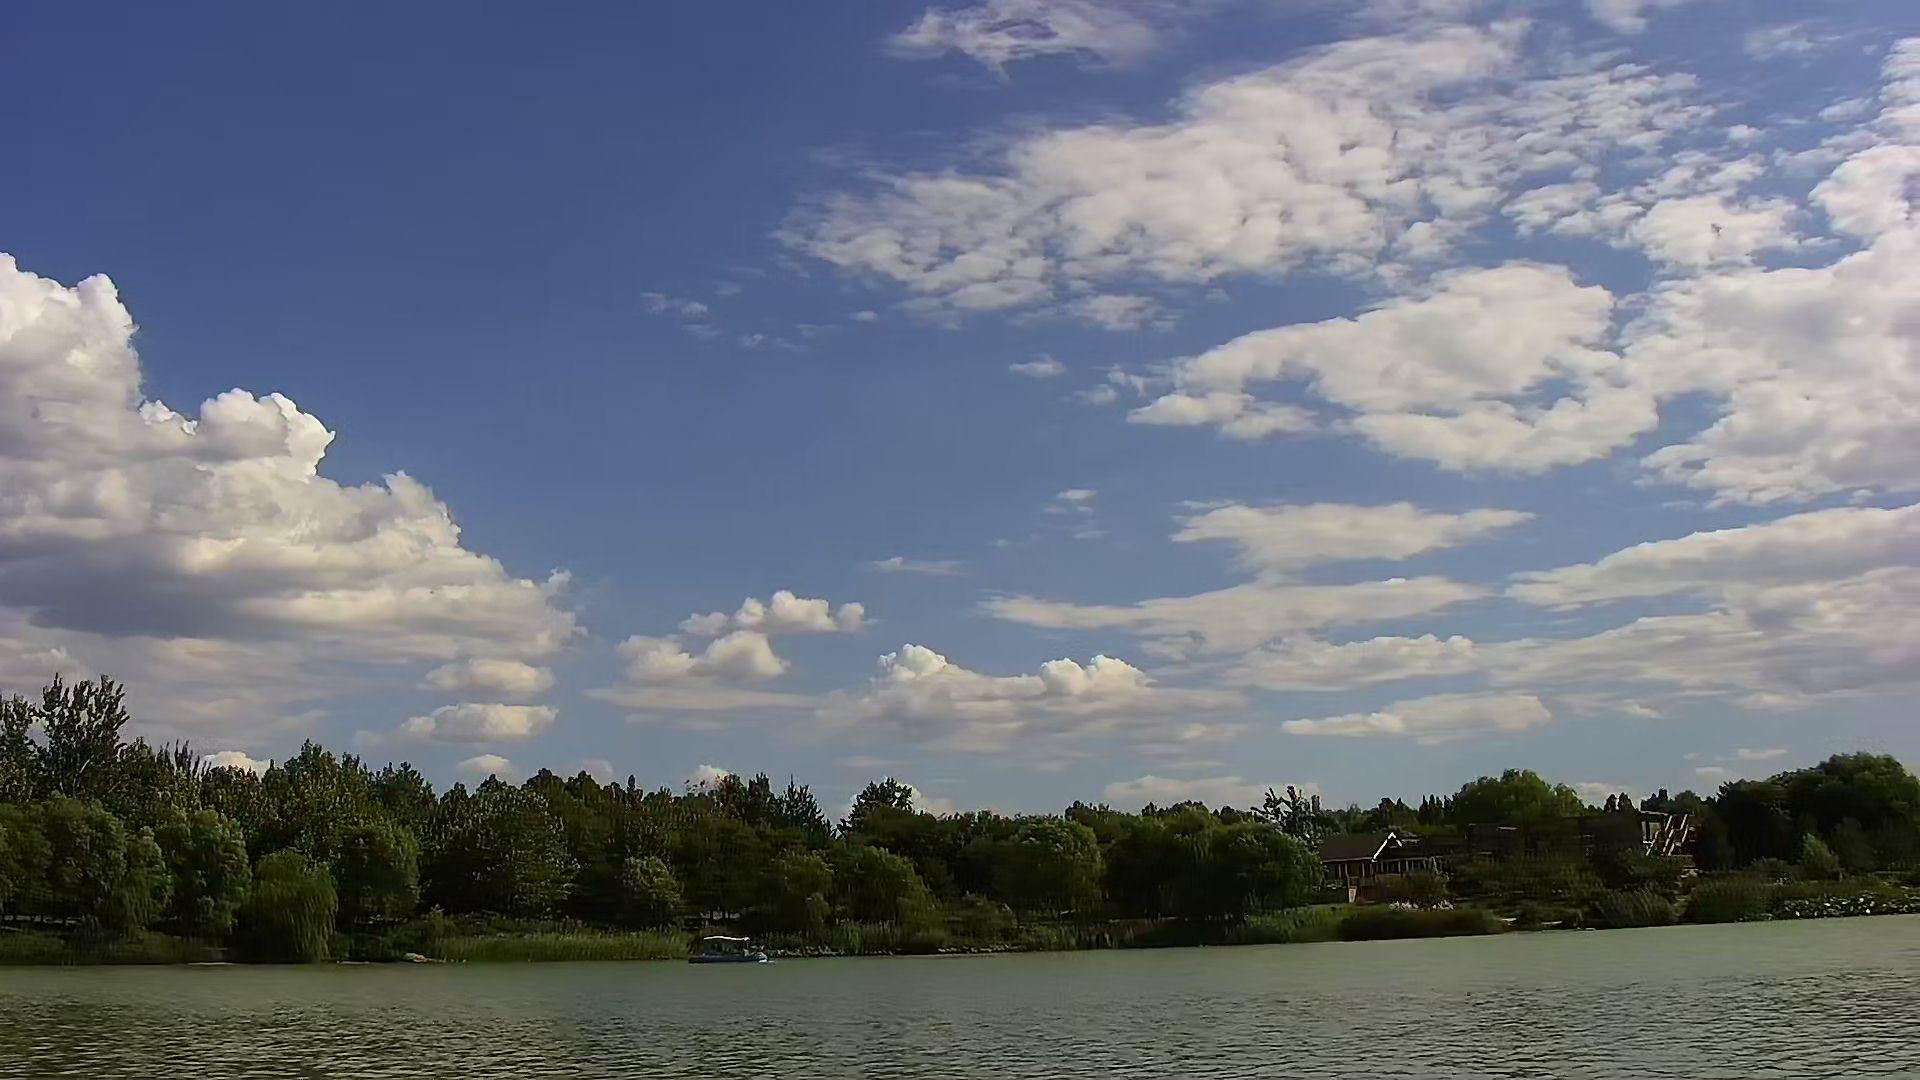boat: (678, 928, 771, 972)
